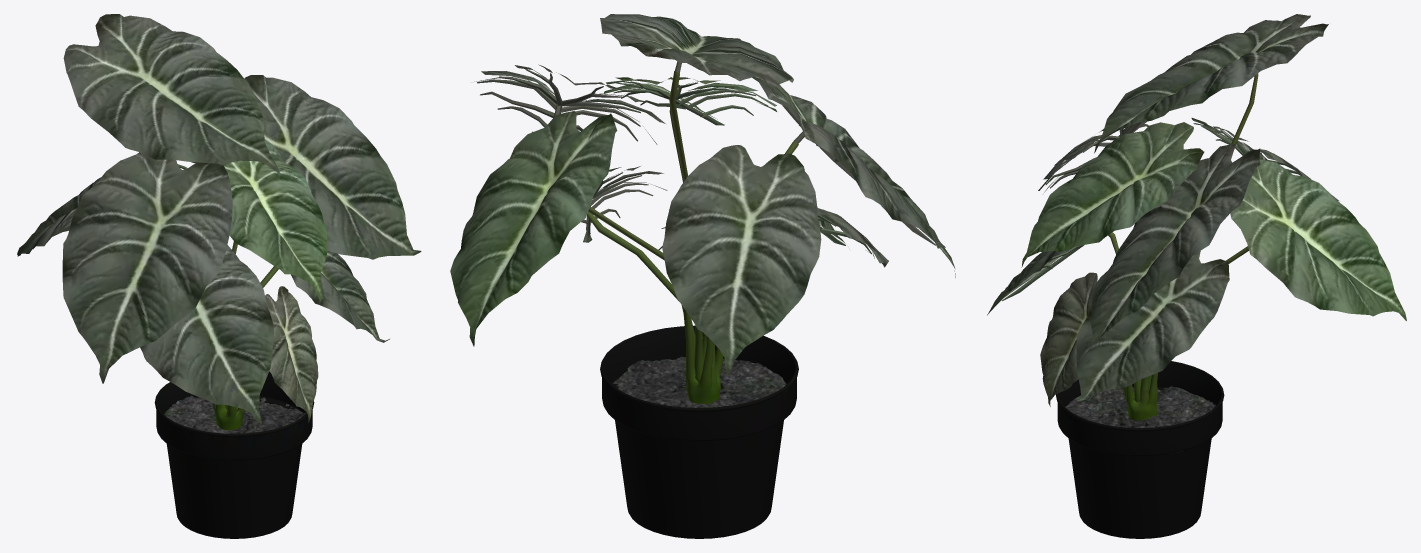
The model's file is 00600870-mini.glb.
3 views of the same model, side by side, from view 1: azimuth 30°, elevation 25°; view 2: azimuth 150°, elevation 25°; view 3: azimuth 270°, elevation 25° (orthographic). The views are drawn at different scales.
Parts seen in each view (by area): view 1: Line011; view 2: Line011; view 3: Line011.
Part boxes in pixels (bbox=[...]): Line011: bbox=[17, 14, 421, 538]; Line011: bbox=[450, 14, 955, 538]; Line011: bbox=[987, 14, 1406, 538].
Size of the model in its own units: 0.3043 by 0.3786 by 0.3088.
1 material, 1 textured.
